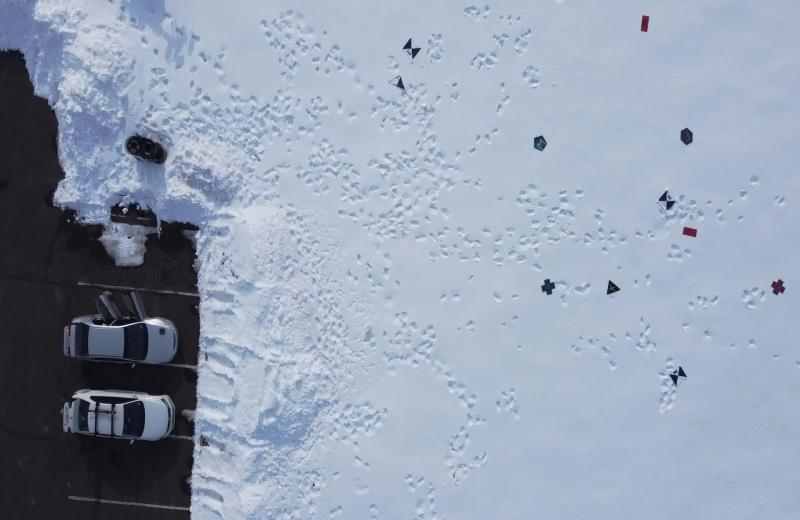Cross: (539, 278, 556, 296), (770, 278, 786, 296)
Hexagon: (678, 128, 694, 147)
Pentagon: (531, 133, 548, 154)
Rectangle: (682, 226, 698, 239), (639, 16, 650, 32)
Triangle: (605, 278, 621, 298)
